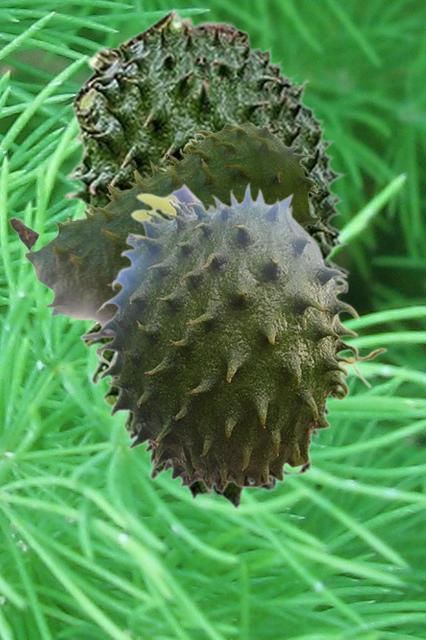guyabano: (63, 6, 350, 509), (79, 180, 387, 493), (8, 122, 321, 326)
